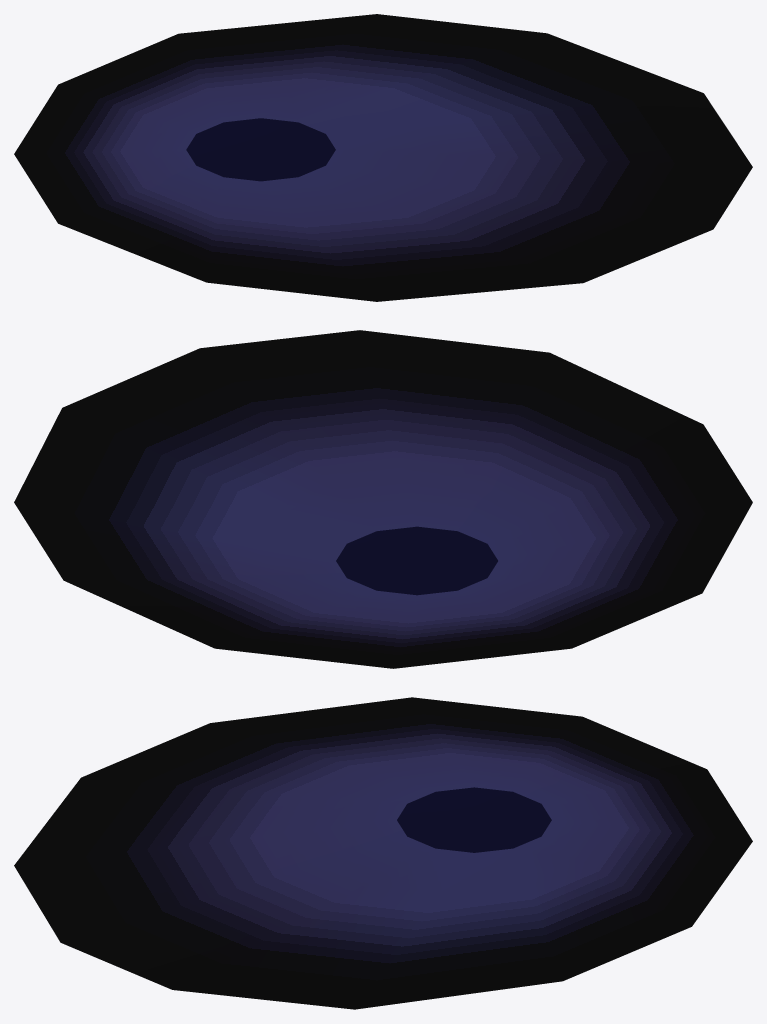
3 views of the same model, one above another, from view 1: azimuth 30°, elevation 25°; view 2: azimuth 150°, elevation 25°; view 3: azimuth 270°, elevation 25° (orthographic). The views are drawn at different scales.
Visible parts, largest first — view 1: Joint_0_Object_0; view 2: Joint_0_Object_0; view 3: Joint_0_Object_0.
Part boxes in pixels (x1,y1,x2,y2): Joint_0_Object_0: (14, 14, 752, 301); Joint_0_Object_0: (14, 330, 752, 668); Joint_0_Object_0: (14, 697, 752, 1009).
Bounding box in the file's own units: 259 × 1.98 × 259.
Materials: 1 (1 with a texture image).
